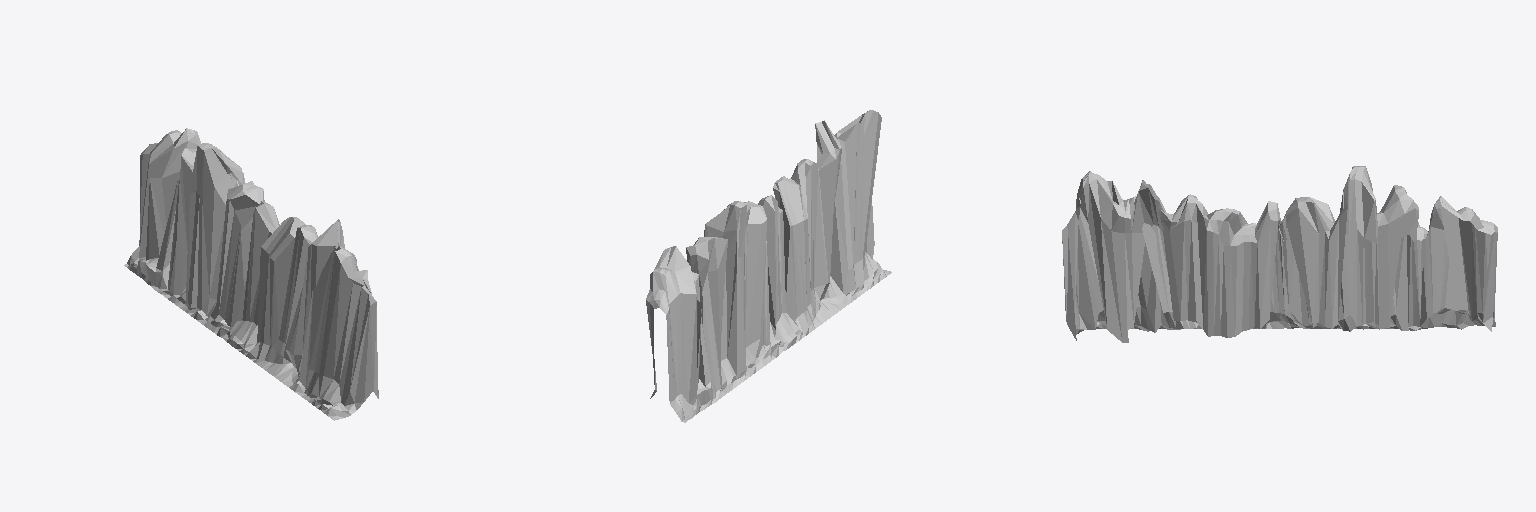
File: border-right.obj
3 views of the same model, side by side, from view 1: azimuth 30°, elevation 25°; view 2: azimuth 150°, elevation 25°; view 3: azimuth 270°, elevation 25° (orthographic).
Parts seen in each view (by area): view 1: Plane.5; view 2: Plane.5; view 3: Plane.5.
Boxes of the visible parts, box(x1,y1,x2,y2) form: Plane.5: box(124, 128, 378, 420); Plane.5: box(646, 110, 891, 422); Plane.5: box(1062, 166, 1497, 342).
Bounding box in the file's own units: 14.08 × 44.72 × 104.